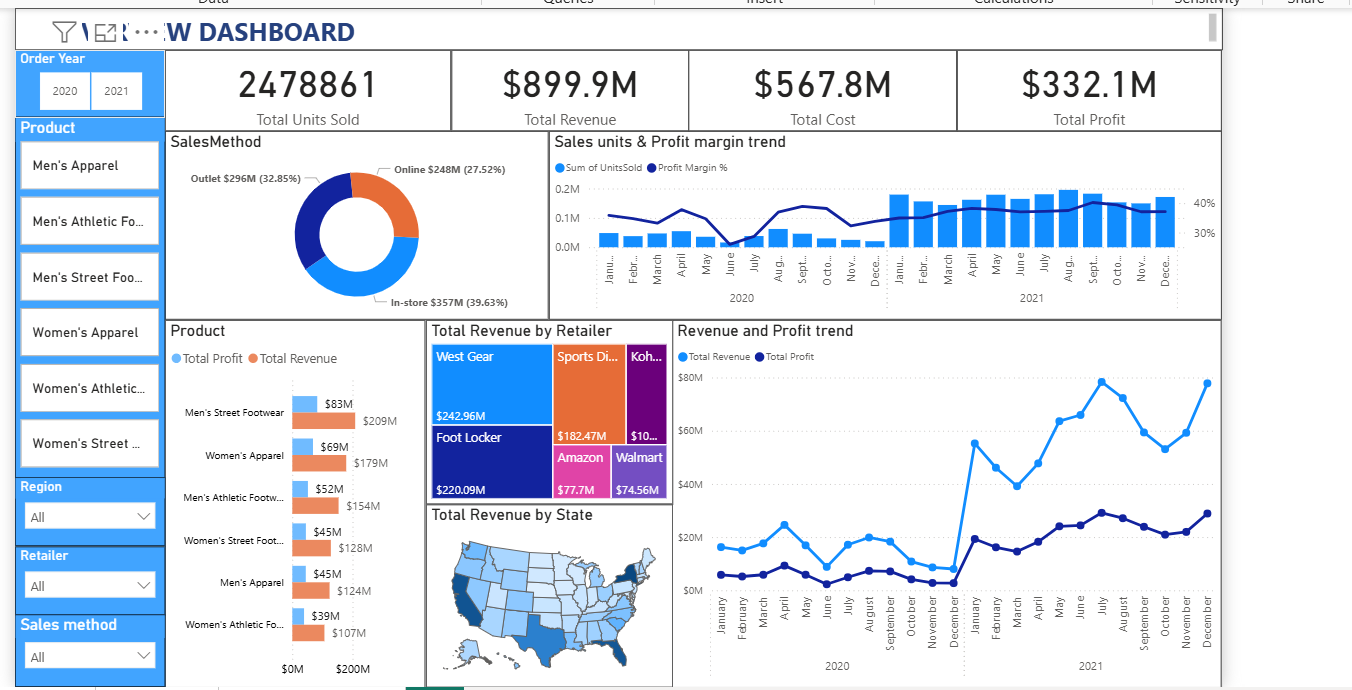

This screenshot's page, from the dashboard's own definition file:
{"tool":"powerbi","page":{"name":"Overview","canvas":[1280,720],"ordinal":0},"visuals":[{"type":"card","title":"Total orders","fields":{"Values":["All measure.Total Units Sold"]},"box":[159.3,44.6,303.6,85.9],"z":0,"group":"g1"},{"type":"textbox","box":[0,0,1280.4,44.5],"z":0},{"type":"card","fields":{"Values":["All measure.Total Revenue"]},"box":[462.9,44.6,251.9,85.9],"z":1000,"group":"g1"},{"type":"shapeMap","fields":{"Category":["DimGeography.State"],"Value":["All measure.Total Revenue"]},"box":[435.5,526,261.8,194.2],"z":1000},{"type":"card","fields":{"Values":["All measure.Total Cost"]},"box":[714.8,44.6,285,85.9],"z":2000,"group":"g1"},{"type":"donutChart","title":"SalesMethod","fields":{"Category":["DimSalesMethod.SalesMethod"],"Y":["All measure.Total Revenue"]},"box":[159.3,130.3,406.6,200.3],"z":2000},{"type":"card","fields":{"Values":["All measure.Total Profit"]},"box":[999.8,44.6,280.9,85.9],"z":3000,"group":"g1"},{"type":"advancedSlicerVisual","title":"Product","fields":{"Values":["DimProduct.Product"]},"box":[0,115.8,159.3,382.4],"z":4000},{"type":"slicer","title":"Order Year","fields":{"Values":["DimDate.Year"]},"box":[0,44.5,159.1,71.6],"z":5000},{"type":"lineChart","title":"Revenue and Profit trend","fields":{"Y":["All measure.Total Revenue","All measure.Total Profit"],"Category":["DimDate.Year","DimDate.InvoiceDate.Variation.Date Hierarchy.Month"]},"box":[697.3,330.6,582.7,389.7],"z":6000},{"type":"lineClusteredColumnComboChart","title":"Sales units & Profit margin trend","fields":{"Y":["Sum(FactSales.UnitsSold)"],"Y2":["All measure.Profit Margin %"],"Category":["DimDate.Year","DimDate.InvoiceDate.Variation.Date Hierarchy.Month"]},"box":[567,130.3,713,200.3],"z":7000},{"type":"clusteredBarChart","title":"Product","fields":{"Category":["DimProduct.Product"],"Y":["All measure.Total Profit","All measure.Total Revenue"]},"box":[159.3,330.6,276.3,389.7],"z":8000},{"type":"slicer","title":"Sales method","fields":{"Values":["DimSalesMethod.SalesMethod"]},"box":[0,643,159.3,77.2],"z":9000},{"type":"group","id":"g1","title":"Group 1","box":[159.3,44.6,1120.8,85.7],"z":10000},{"type":"treemap","fields":{"Group":["DimRetailer.Retailer"],"Values":["All measure.Total Revenue"]},"box":[435.5,330.6,261.8,195.4],"z":11000},{"type":"slicer","title":"Region","fields":{"Values":["DimGeography.Region"]},"box":[0,498.3,159.3,72.4],"z":11001},{"type":"slicer","title":"Retailer","fields":{"Values":["DimRetailer.Retailer"]},"box":[0,570.6,159.3,72.4],"z":11002}]}

Visuals, with their boxes in screenshot pixels (x1, y1, x2, y2):
"Total orders" card: bbox=[161, 46, 448, 127]
textbox: bbox=[11, 4, 1221, 46]
card - All measure.Total Revenue: bbox=[448, 46, 686, 127]
shapeMap - DimGeography.State x All measure.Total Revenue: bbox=[422, 501, 670, 684]
card - All measure.Total Cost: bbox=[686, 46, 956, 127]
"SalesMethod" donutChart: bbox=[161, 127, 546, 316]
card - All measure.Total Profit: bbox=[956, 46, 1221, 127]
"Product" advancedSlicerVisual: bbox=[11, 113, 161, 474]
"Order Year" slicer: bbox=[11, 46, 161, 114]
"Revenue and Profit trend" lineChart: bbox=[670, 316, 1220, 684]
"Sales units & Profit margin trend" lineClusteredColumnComboChart: bbox=[547, 127, 1220, 316]
"Product" clusteredBarChart: bbox=[161, 316, 422, 684]
"Sales method" slicer: bbox=[11, 611, 161, 684]
"Group 1" group: bbox=[161, 46, 1221, 127]
treemap - DimRetailer.Retailer x All measure.Total Revenue: bbox=[422, 316, 670, 501]
"Region" slicer: bbox=[11, 474, 161, 543]
"Retailer" slicer: bbox=[11, 543, 161, 611]
